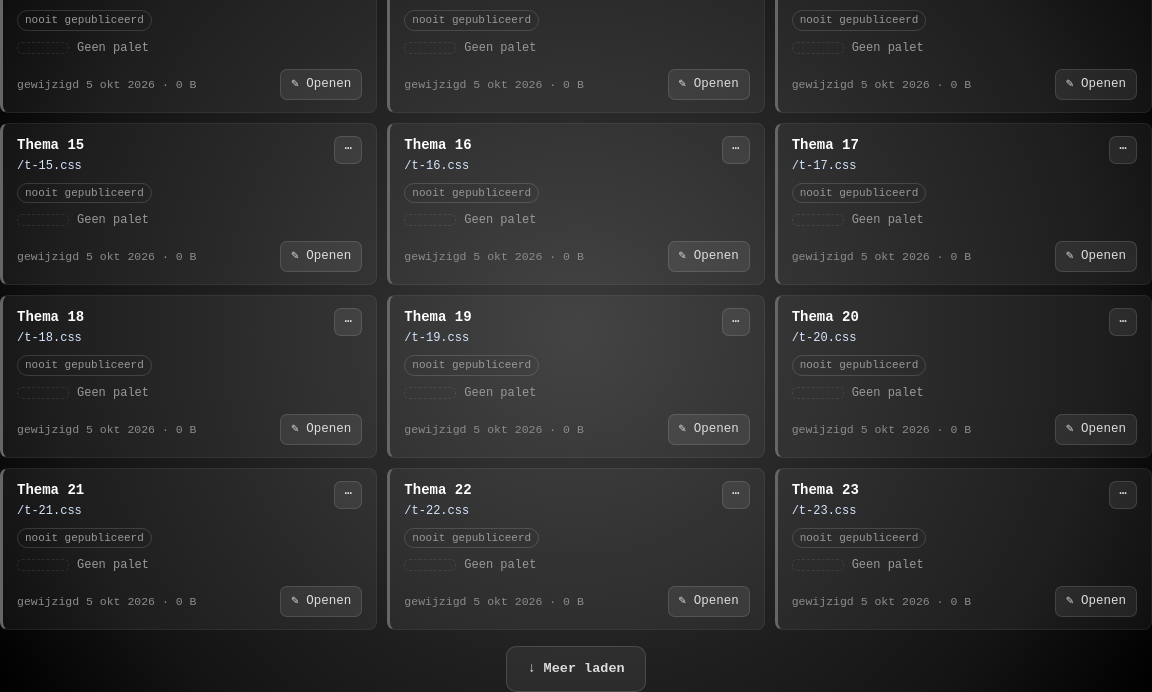
ThemesPage › 'meer laden' haalt de volgende pagina met de cursor
(page scrolled)
Click the button "↓ Meer laden": (576, 669) [506,646,646,691]
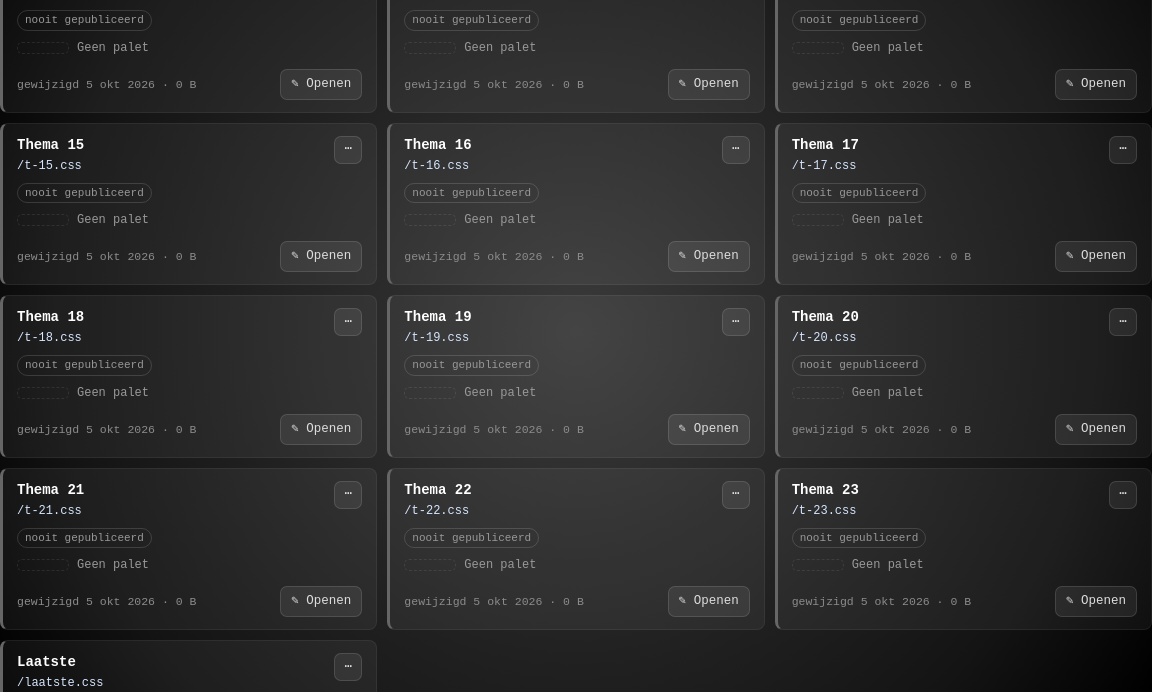
Expected: the heading "Laatste" is shown, [17,654,76,670]
Expected: the button "↓ Meer laden" is gone
